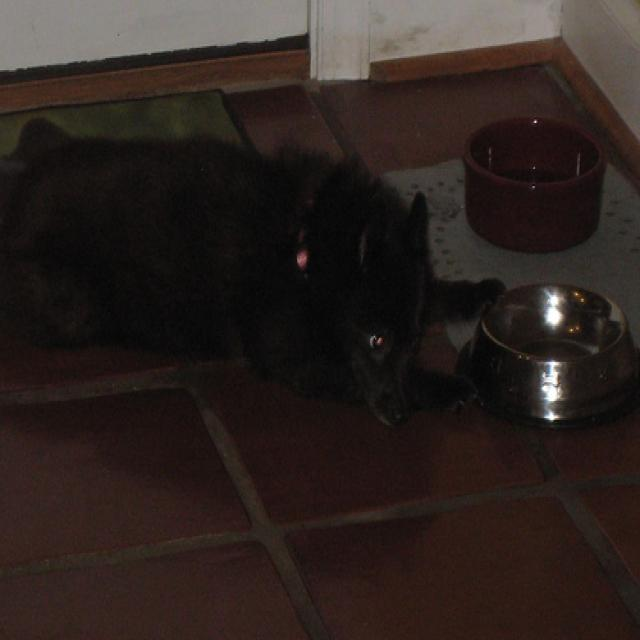Dog: (102, 90, 476, 567)
